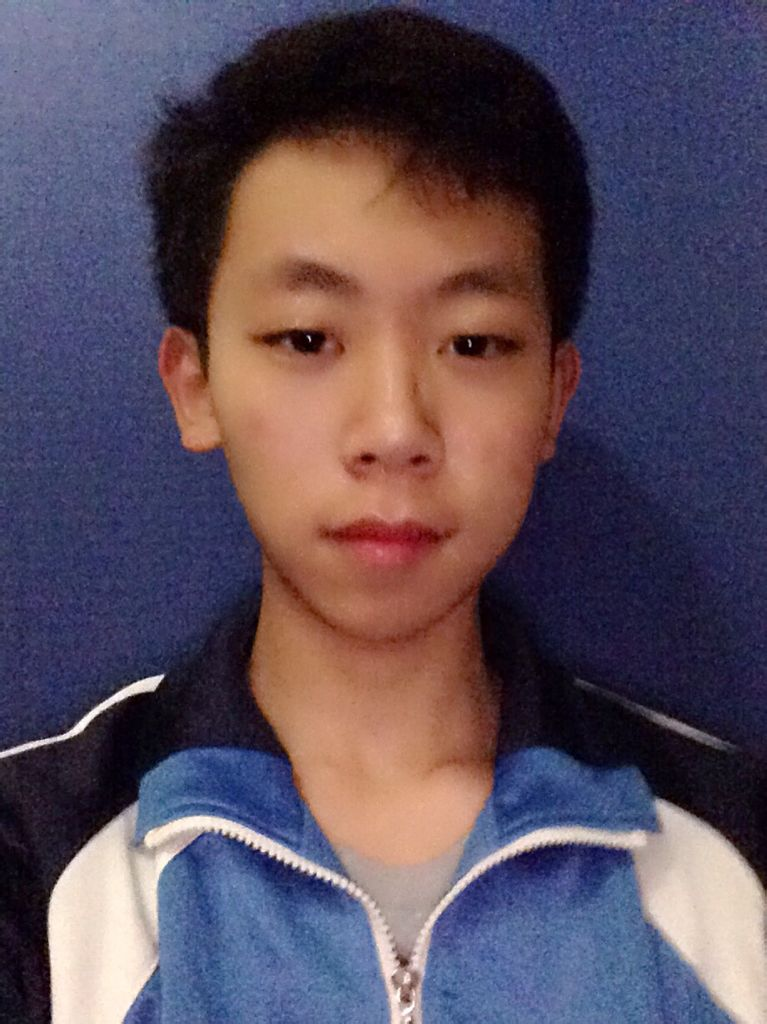unmask: (225, 173, 555, 613)
